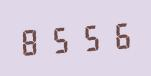eight: (18, 24, 45, 58)
five: (46, 22, 73, 56), (74, 20, 101, 54)
six: (102, 18, 129, 52)
